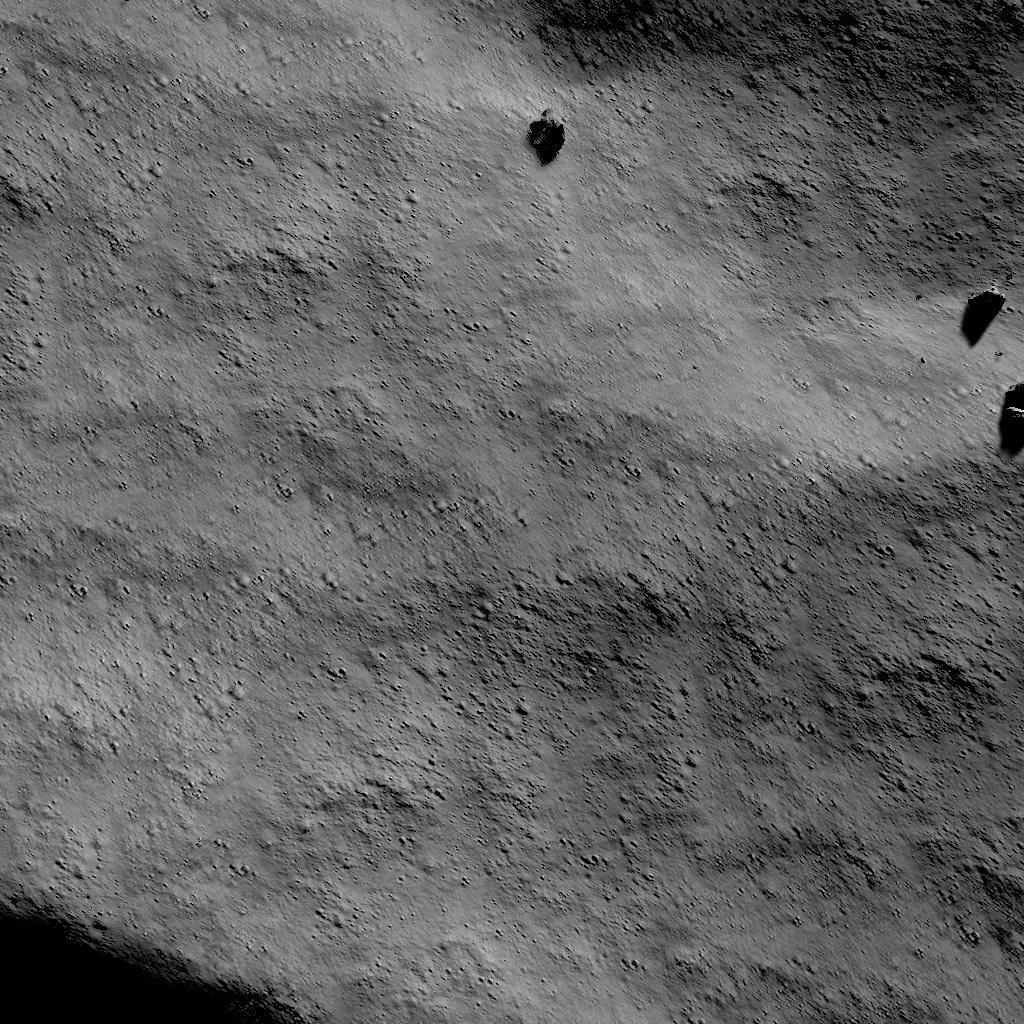Plan surface: (0, 4, 496, 871), (508, 500, 1024, 1024), (586, 10, 1024, 268), (520, 284, 914, 480)
